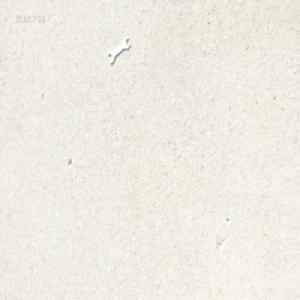Wrench: (108, 33, 130, 62)
